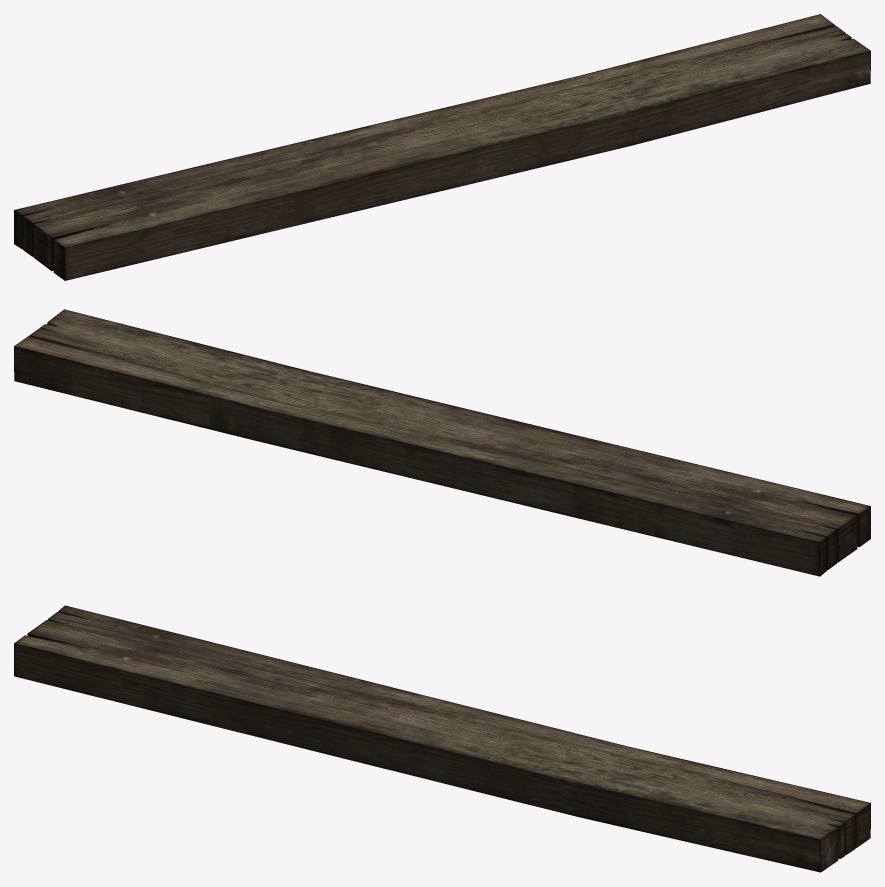
Rendered from plank 1.fbx.
3 views of the same model, one above another, from view 1: azimuth 30°, elevation 25°; view 2: azimuth 150°, elevation 25°; view 3: azimuth 330°, elevation 25° (orthographic).
Parts seen in each view (by area): view 1: Planche_low.007; view 2: Planche_low.007; view 3: Planche_low.007.
Boxes of the visible parts, x1,y1,x2,y2 form: Planche_low.007: (14,14,870,280); Planche_low.007: (14,309,870,576); Planche_low.007: (14,605,870,872).
Bounding box in the file's own units: 821 × 35.53 × 90.35.
